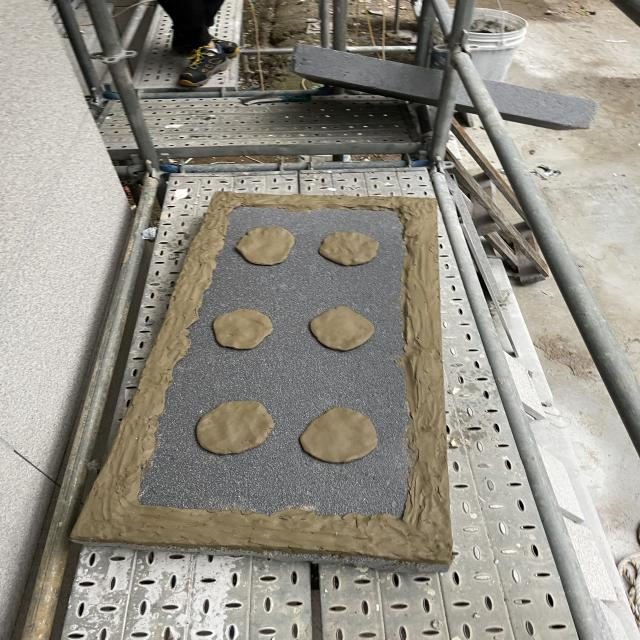dab: (300, 407, 378, 463), (196, 401, 274, 454), (310, 306, 374, 351), (213, 308, 273, 350), (234, 227, 293, 265), (319, 232, 379, 266)
insulation: (69, 192, 453, 574)
